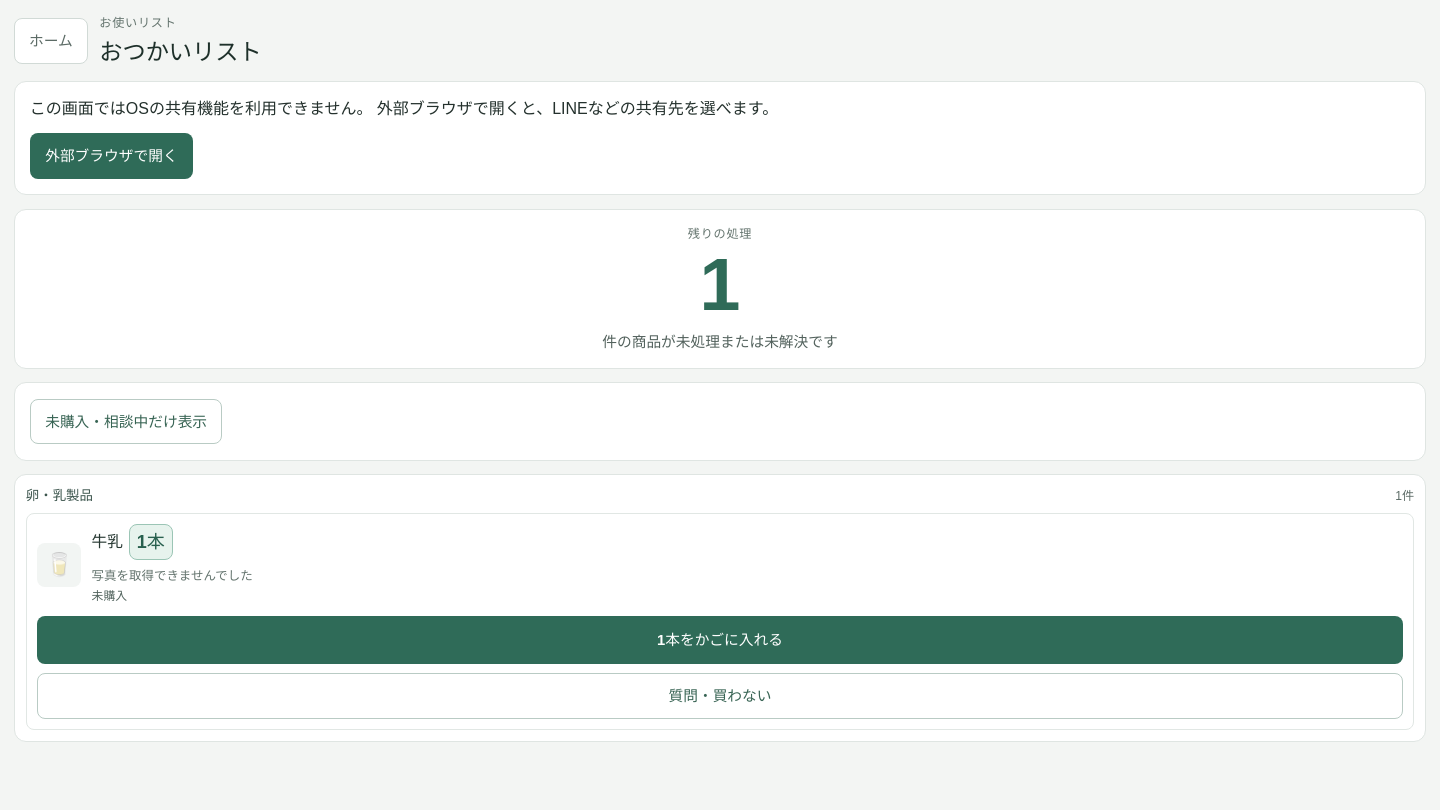
Test case: ShoppingListPage product photo isolation › keeps the product and purchase controls usable when photo retrieval fails
Click the button "1本をかごに入れる": x=720, y=640 [37,616,1403,664]
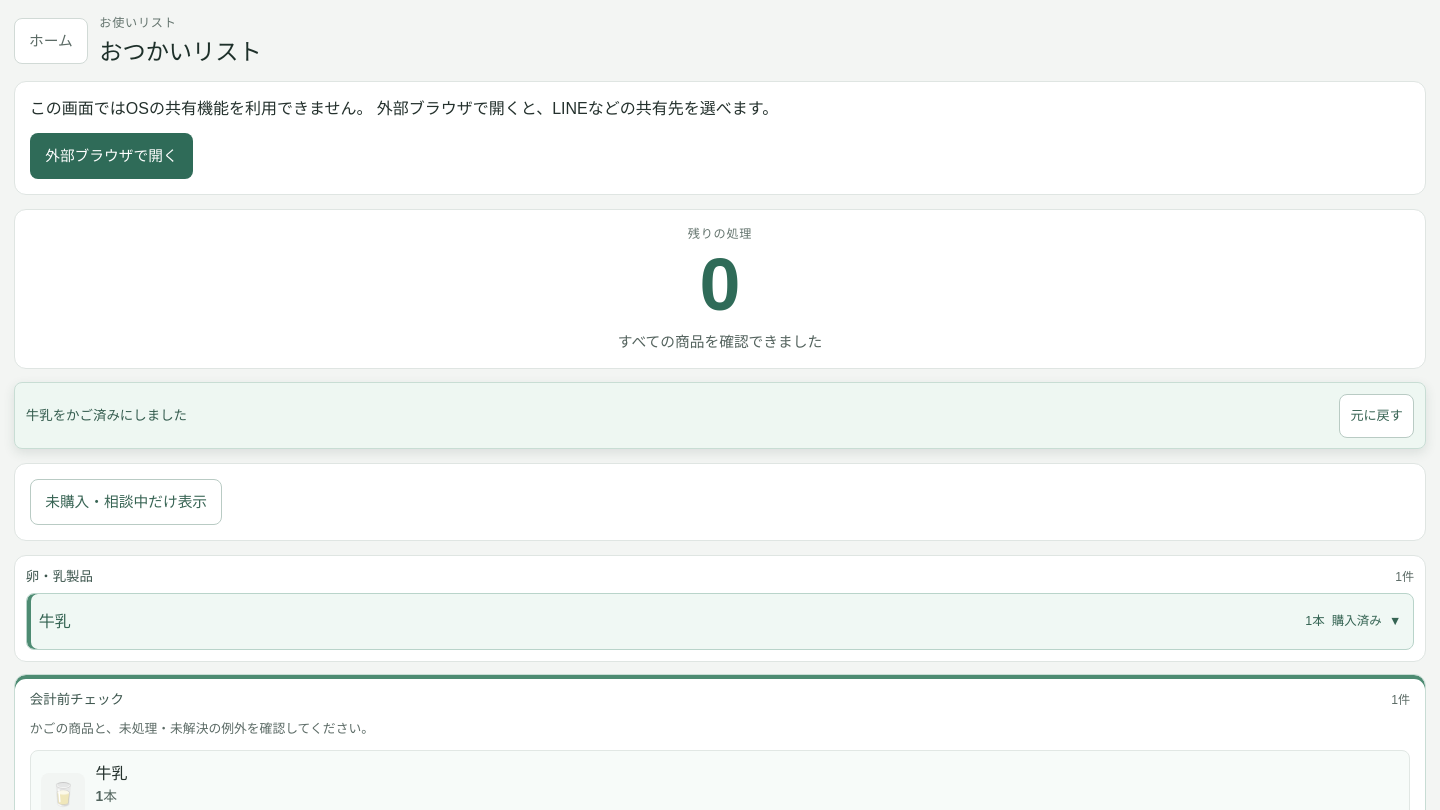
Check: the text "かご済み" is shown, box [26,408,187,423]
